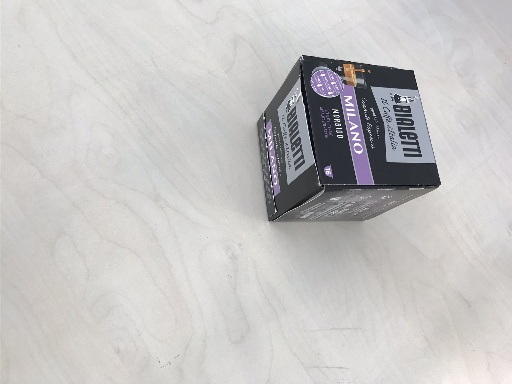Caffe: (256, 53, 443, 223)
